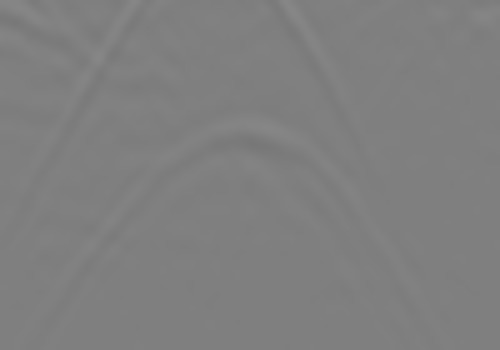hyperbola: (59, 112, 407, 347)
